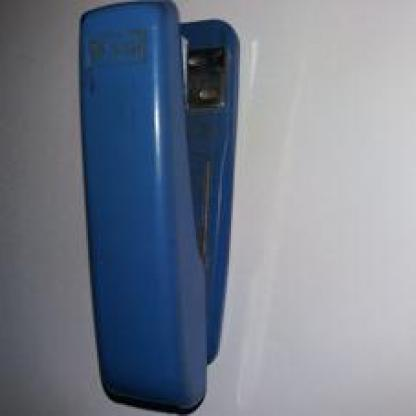stapler: (44, 0, 258, 400)
